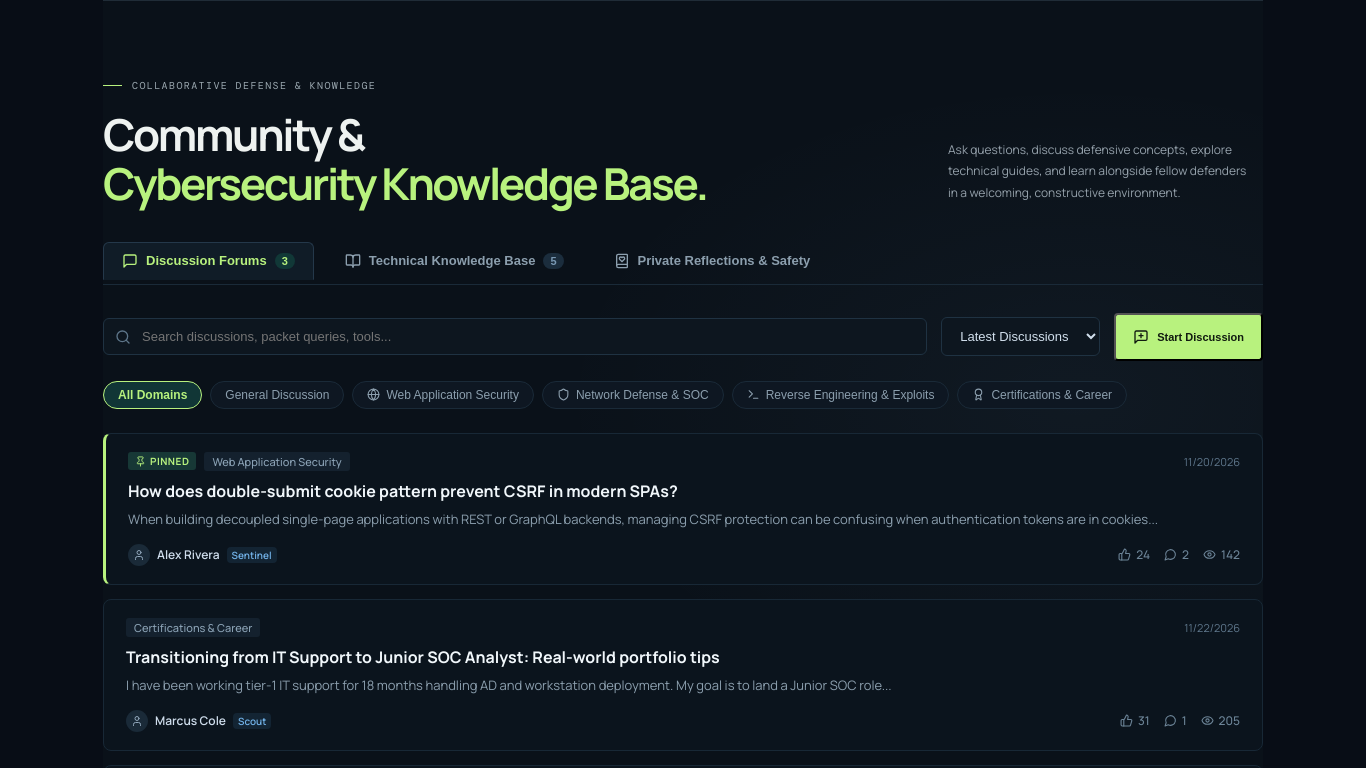
Scenario: Phase 9: Community Forums & Security Knowledge Base › CommunityHub renders navigation tabs, discussion threads, and filters by category
Expected: the text "Cybersecurity Knowledge Base." is shown, [103, 153, 707, 213]
Expected: the text "Discussion Forums" is shown, [146, 253, 267, 268]
// Filter by Network Defense & SOC
Click the button "Network Defense & SOC" at (633, 394), box [542, 380, 724, 408]
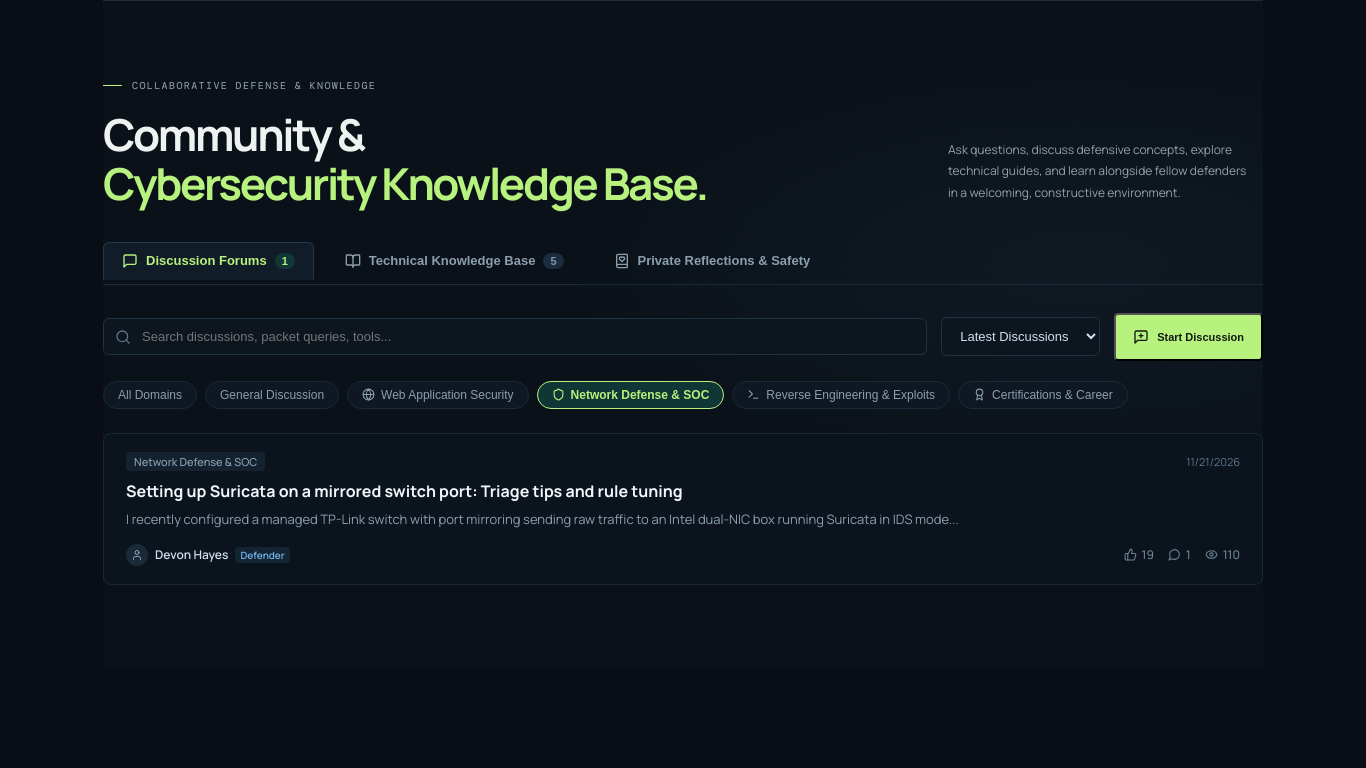
Expected: the heading "Setting up Suricata on a mirrored switch port" is shown, [126, 480, 683, 502]
Expected: the heading "How does double-submit cookie pattern prevent CSRF" is gone
